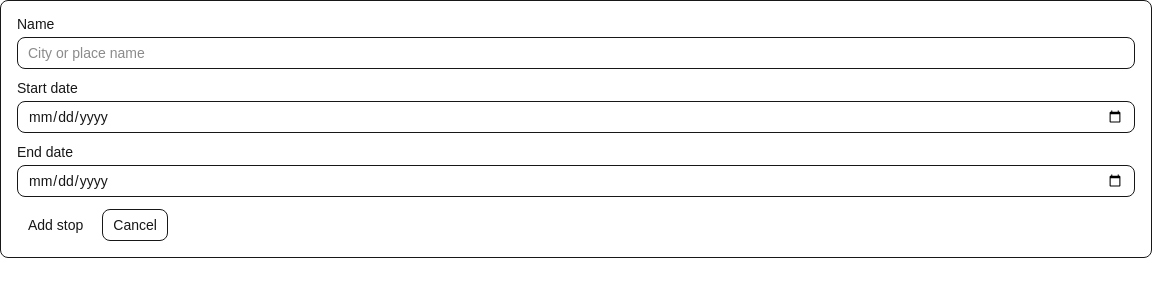
AddStopFormView — date validation › shows start date required error when name is provided but start date is not
Type "Vienna" into the field labelled "Name" at (576, 53), box 17,37 -> 1135,69
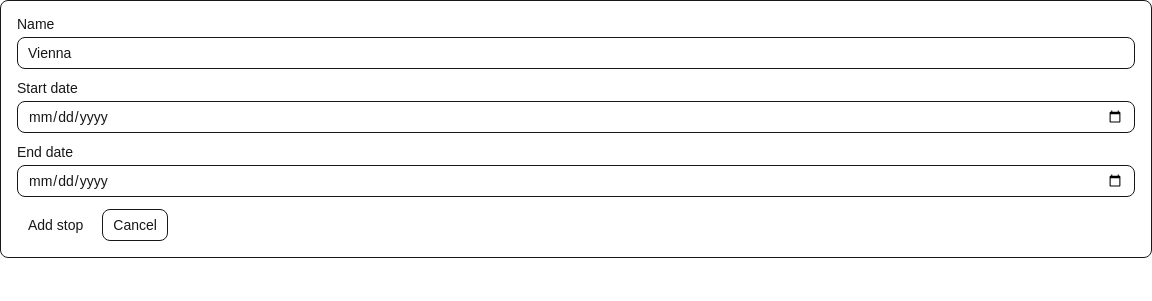
Click the button "Add stop" at (56, 225), box 17,209 -> 94,241
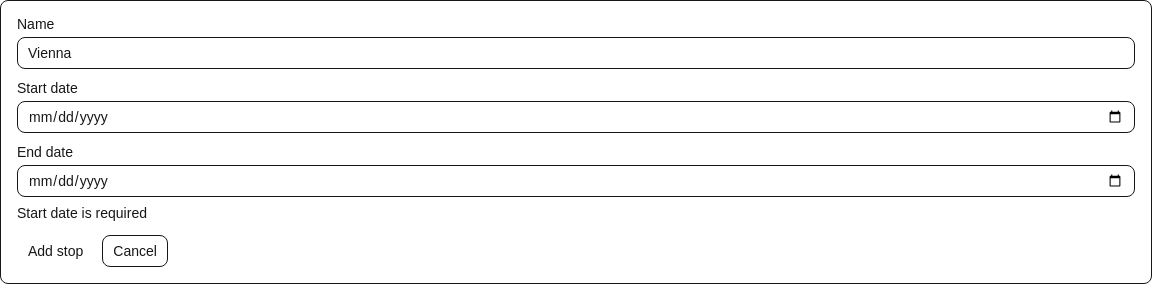
Expected: the text "Start date is required" is shown, 17,205 -> 147,221
